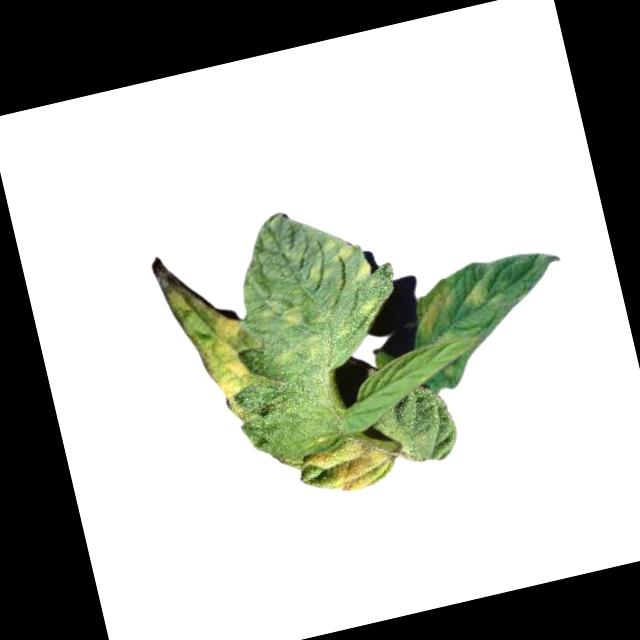Leaf_Mold: (225, 193, 396, 388), (163, 270, 265, 432), (303, 425, 401, 501), (409, 273, 462, 338), (464, 278, 492, 312)
